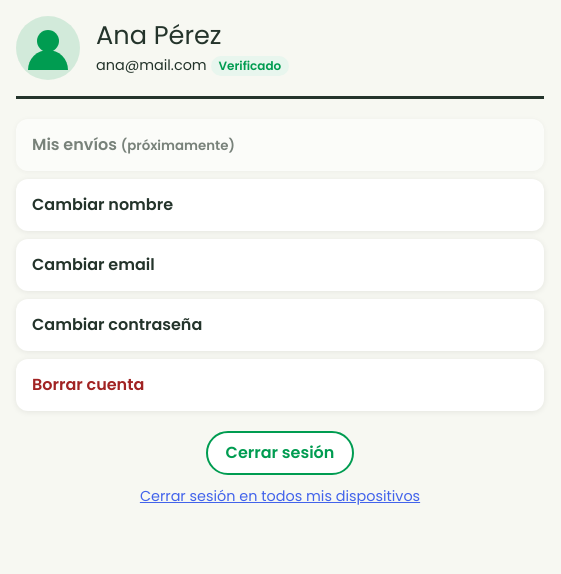
Test: MiCuenta (RF-01, RF-24, RF-25) › cerrar sesión sin conexión no la muestra cerrada: se queda y avisa
The width and height of the screenshot is (561, 574).
Click the button "Cerrar sesión".
click(280, 453)  # box [206,431,354,475]
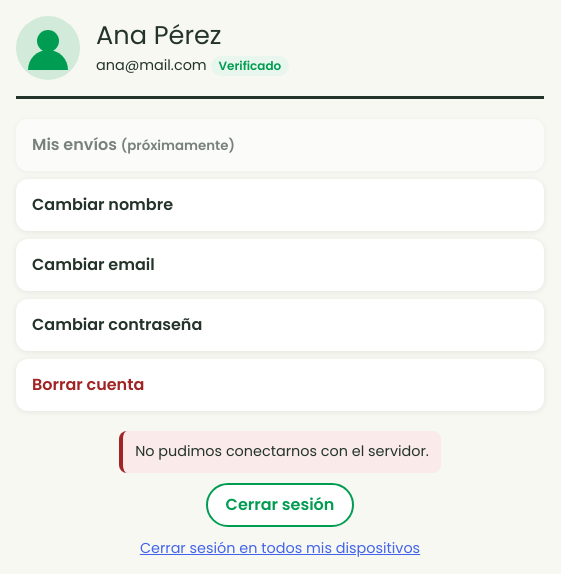
Check: the heading "Ana Pérez" is shown, box [96,17,222,53]
Check: the message shows "No pudimos conectarnos", box [135,441,429,461]
